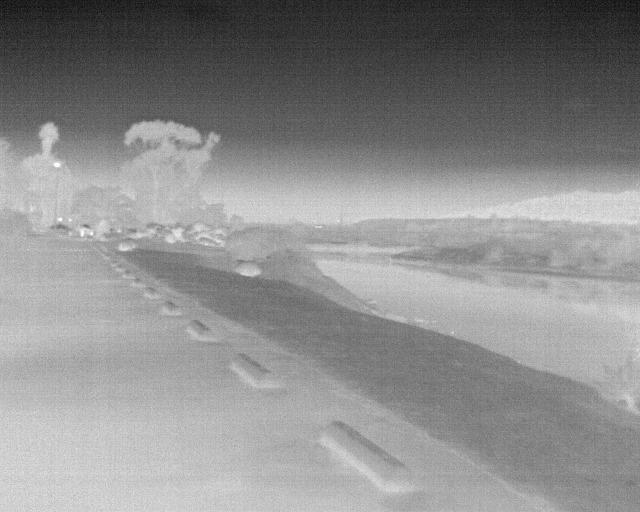car: (74, 223, 97, 237)
